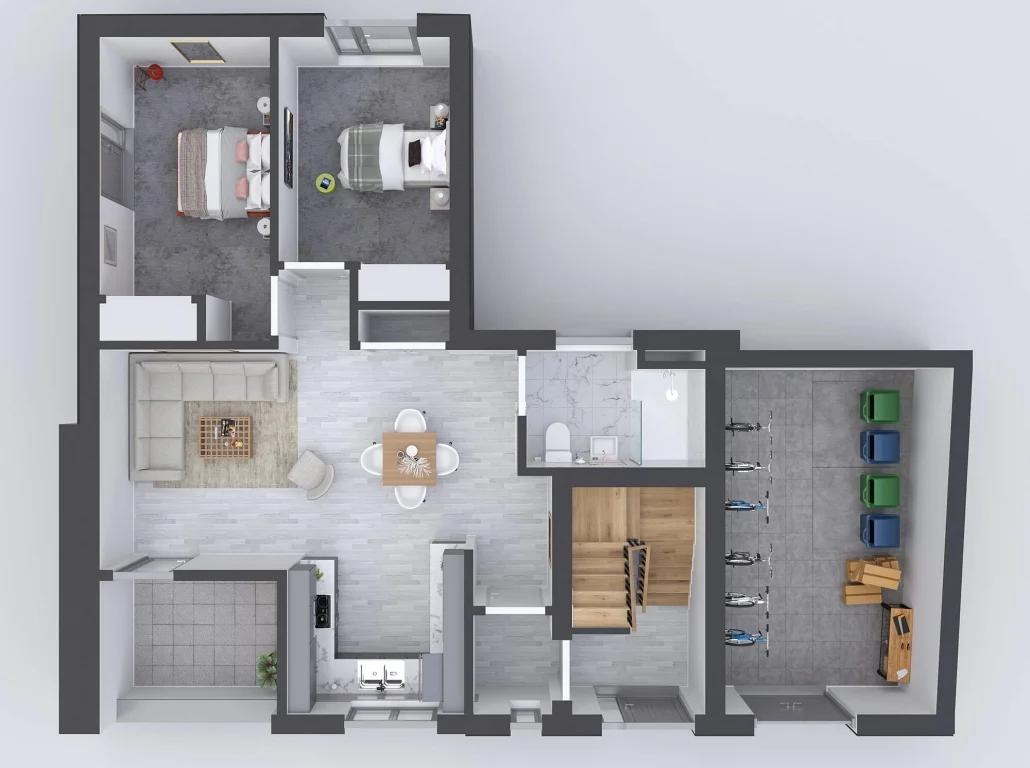room: (88, 344, 516, 575), (718, 361, 960, 726), (89, 30, 272, 344), (273, 29, 460, 265), (278, 572, 470, 727), (518, 346, 714, 476), (471, 608, 560, 725)
